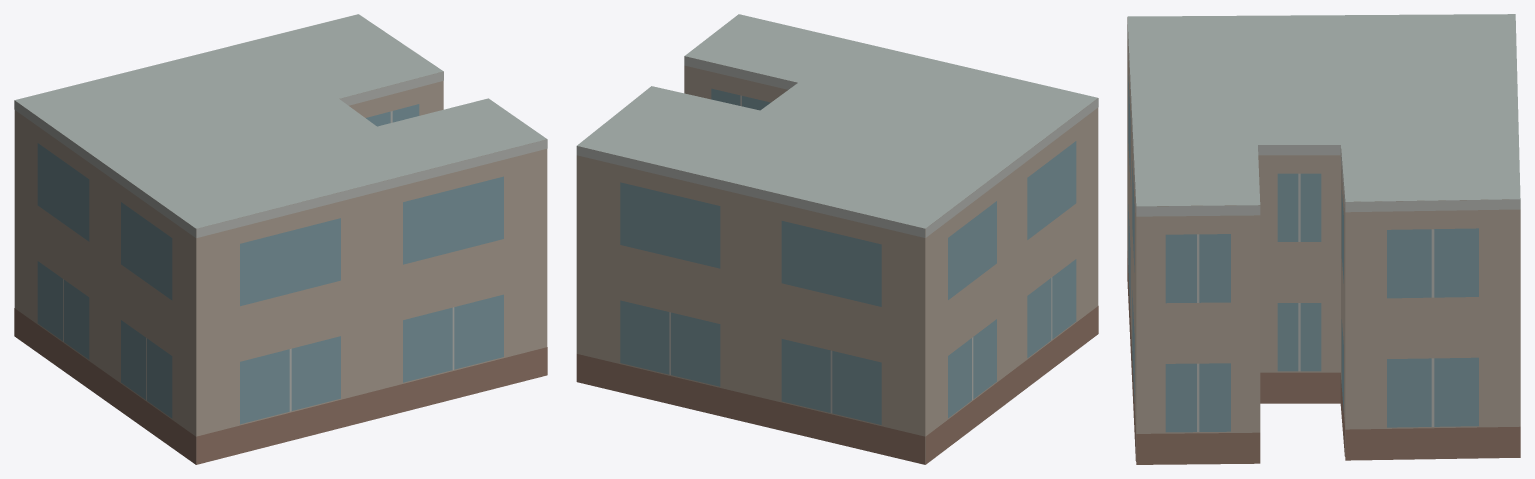
The model's file is survey-upis-32831587.glb.
The picture shows the model from 3 angles, left to right: view 1: azimuth 30°, elevation 25°; view 2: azimuth 150°, elevation 25°; view 3: azimuth 270°, elevation 25°; orthographic projection. The views are drawn at different scales.
Visible parts, largest first — view 1: survey-upis-32831587.tmp; view 2: survey-upis-32831587.tmp; view 3: survey-upis-32831587.tmp.
Boxes of the visible parts, bbox=[...] form: survey-upis-32831587.tmp: bbox=[14, 14, 547, 464]; survey-upis-32831587.tmp: bbox=[576, 14, 1098, 464]; survey-upis-32831587.tmp: bbox=[1127, 14, 1520, 464].
Size of the model in its own units: 9.74 by 6.1 by 8.42.
